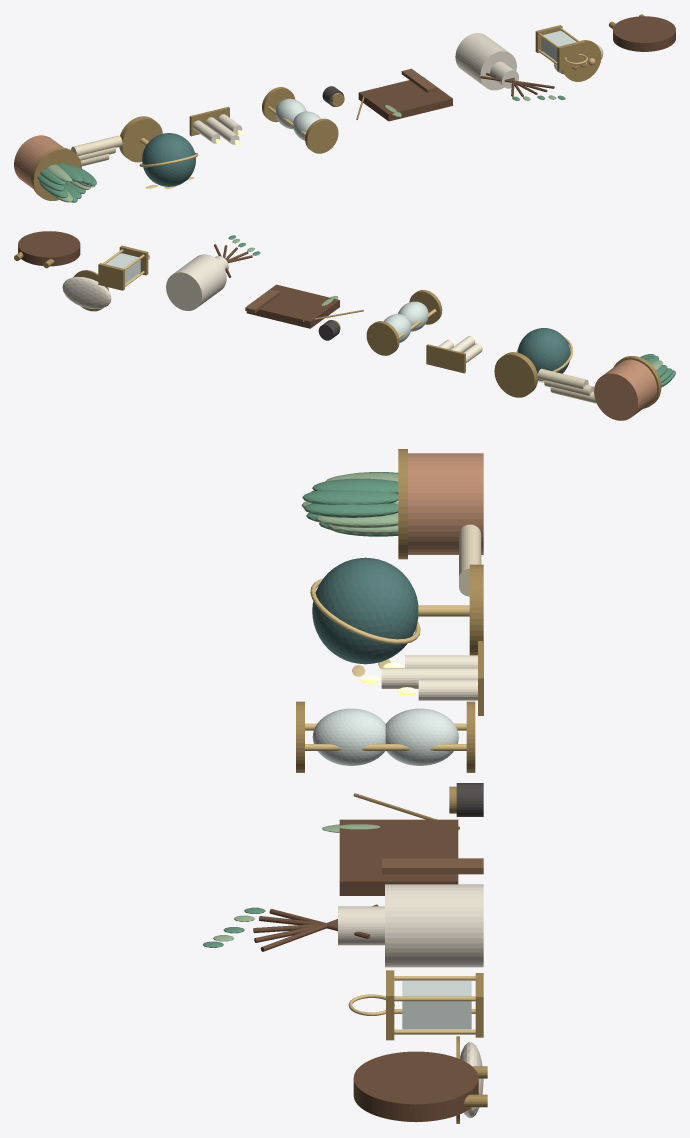
The model's file is arctic_bottom_props_pack.glb.
The picture shows the model from 3 angles, top to bottom: view 1: azimuth 30°, elevation 25°; view 2: azimuth 150°, elevation 25°; view 3: azimuth 270°, elevation 25°; orthographic projection. The views are drawn at different scales.
Parts seen in each view (by area): view 1: prop_bottom_small_frame_dark_walnut_outer_frame, prop_bottom_small_globe_muted_green_sphere, prop_bottom_vase_branch_ivory_vase_body, prop_bottom_round_clock_dark_walnut_round_body, prop_bottom_small_globe_stand_base, prop_bottom_potted_fern_ceramic_pot_body, prop_bottom_potted_fern_brass_pot_rim, prop_bottom_hourglass_top_brass_cap, prop_bottom_ceramic_bowl_brass_rim, prop_bottom_lantern_top_cap, prop_bottom_hourglass_bottom_brass_cap, prop_bottom_hourglass_lower_glass_bulb (+8 smaller); view 2: prop_bottom_potted_fern_ceramic_pot_body, prop_bottom_vase_branch_ivory_vase_body, prop_bottom_small_frame_dark_walnut_outer_frame, prop_bottom_round_clock_dark_walnut_round_body, prop_bottom_small_globe_muted_green_sphere, prop_bottom_small_globe_stand_base, prop_bottom_ceramic_bowl_shallow_ivory_bowl, prop_bottom_hourglass_bottom_brass_cap, prop_bottom_candle_set_thin_brass_tray, prop_bottom_lantern_brass_base, prop_bottom_hourglass_top_brass_cap, prop_bottom_hourglass_upper_glass_bulb (+9 smaller); view 3: prop_bottom_small_globe_muted_green_sphere, prop_bottom_vase_branch_ivory_vase_body, prop_bottom_round_clock_dark_walnut_round_body, prop_bottom_potted_fern_ceramic_pot_body, prop_bottom_small_frame_dark_walnut_outer_frame, prop_bottom_hourglass_lower_glass_bulb, prop_bottom_hourglass_upper_glass_bulb, prop_bottom_lantern_soft_glass_body, prop_bottom_vase_branch_narrow_neck, prop_bottom_small_frame_back_support_kickstand, prop_bottom_candle_set_candle_2_wax, prop_bottom_candle_set_candle_3_wax (+6 smaller).
Part boxes in pixels (x1=…): prop_bottom_small_frame_dark_walnut_outer_frame: x1=358, y1=77, x2=452, y2=121; prop_bottom_small_globe_muted_green_sphere: x1=142, y1=133, x2=195, y2=186; prop_bottom_vase_branch_ivory_vase_body: x1=455, y1=33, x2=516, y2=90; prop_bottom_round_clock_dark_walnut_round_body: x1=613, y1=16, x2=675, y2=51; prop_bottom_small_globe_stand_base: x1=119, y1=116, x2=162, y2=162; prop_bottom_potted_fern_ceramic_pot_body: x1=14, y1=135, x2=63, y2=188; prop_bottom_potted_fern_brass_pot_rim: x1=31, y1=147, x2=81, y2=200; prop_bottom_hourglass_top_brass_cap: x1=305, y1=118, x2=338, y2=153; prop_bottom_ceramic_bowl_brass_rim: x1=562, y1=40, x2=601, y2=81; prop_bottom_lantern_top_cap: x1=557, y1=40, x2=585, y2=70; prop_bottom_hourglass_bottom_brass_cap: x1=262, y1=87, x2=295, y2=122; prop_bottom_hourglass_lower_glass_bulb: x1=275, y1=98, x2=306, y2=129; prop_bottom_potted_fern_ceramic_pot_body: x1=594, y1=359, x2=656, y2=420; prop_bottom_vase_branch_ivory_vase_body: x1=166, y1=254, x2=226, y2=310; prop_bottom_small_frame_dark_walnut_outer_frame: x1=246, y1=284, x2=339, y2=328; prop_bottom_round_clock_dark_walnut_round_body: x1=18, y1=231, x2=80, y2=266; prop_bottom_small_globe_muted_green_sphere: x1=517, y1=328, x2=570, y2=380; prop_bottom_small_globe_stand_base: x1=494, y1=352, x2=537, y2=397; prop_bottom_ceramic_bowl_shallow_ivory_bowl: x1=62, y1=277, x2=111, y2=308; prop_bottom_hourglass_bottom_brass_cap: x1=366, y1=321, x2=399, y2=355; prop_bottom_candle_set_thin_brass_tray: x1=426, y1=344, x2=465, y2=373; prop_bottom_lantern_brass_base: x1=98, y1=263, x2=124, y2=290; prop_bottom_hourglass_top_brass_cap: x1=409, y1=290, x2=442, y2=324; prop_bottom_hourglass_upper_glass_bulb: x1=398, y1=301, x2=428, y2=331; prop_bottom_small_globe_muted_green_sphere: x1=312, y1=557, x2=418, y2=664; prop_bottom_vase_branch_ivory_vase_body: x1=385, y1=884, x2=483, y2=967; prop_bottom_round_clock_dark_walnut_round_body: x1=353, y1=1051, x2=478, y2=1121; prop_bottom_potted_fern_ceramic_pot_body: x1=408, y1=453, x2=483, y2=554; prop_bottom_small_frame_dark_walnut_outer_frame: x1=339, y1=819, x2=458, y2=895; prop_bottom_hourglass_lower_glass_bulb: x1=385, y1=708, x2=458, y2=765; prop_bottom_hourglass_upper_glass_bulb: x1=312, y1=708, x2=385, y2=765; prop_bottom_lantern_soft_glass_body: x1=402, y1=981, x2=471, y2=1029; prop_bottom_vase_branch_narrow_neck: x1=338, y1=906, x2=384, y2=945; prop_bottom_small_frame_back_support_kickstand: x1=382, y1=858, x2=483, y2=874; prop_bottom_candle_set_candle_2_wax: x1=381, y1=668, x2=477, y2=688; prop_bottom_candle_set_candle_3_wax: x1=418, y1=679, x2=477, y2=700.
Bounding box in the file's own units: 5.19 × 0.5698 × 1.01.
